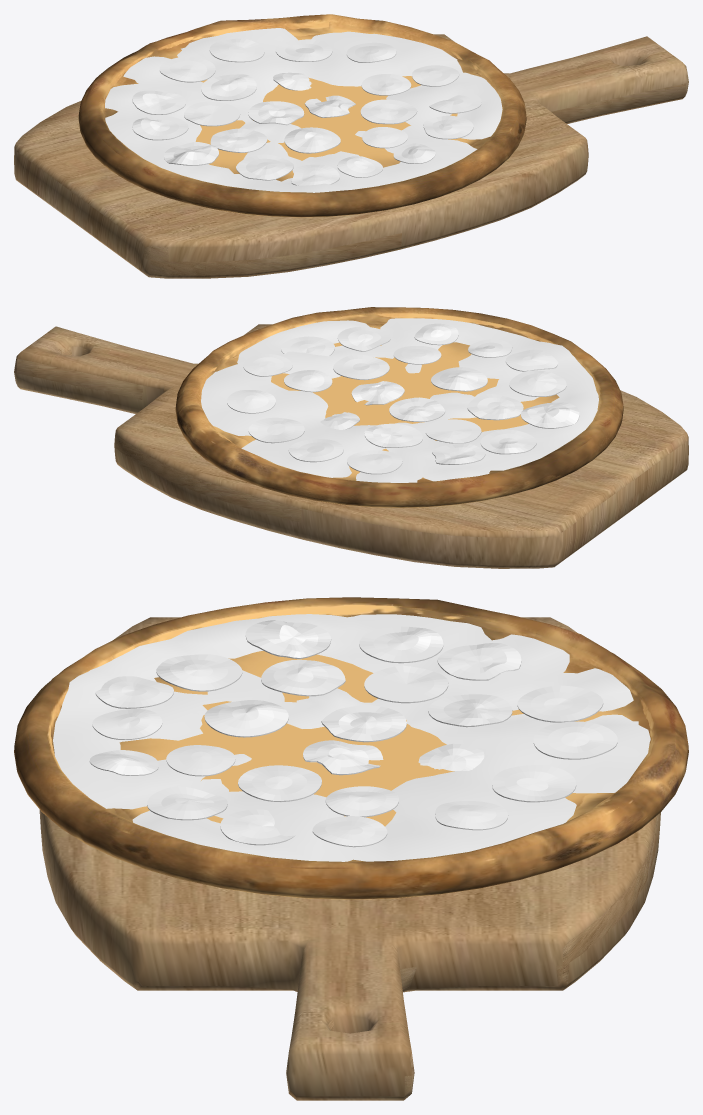
Rendered from asset.glb.
3 renders of one model, top to bottom at view 1: azimuth 30°, elevation 25°; view 2: azimuth 150°, elevation 25°; view 3: azimuth 270°, elevation 25°, orthographic. The views are drawn at different scales.
Parts seen in each view (by area): view 1: 3DGeom~7_Defintion.001, Pizza Dough.003, Pepperoni.003, Cheese.001; view 2: 3DGeom~7_Defintion.001, Pizza Dough.003, Pepperoni.003, Cheese.001; view 3: 3DGeom~7_Defintion.001, Pizza Dough.003, Cheese.001, Pepperoni.003.
Part boxes in pixels (x1,y1,x2,y2): 3DGeom~7_Defintion.001: (14,34,688,278); Pizza Dough.003: (78,14,526,217); Pepperoni.003: (132,38,481,185); Cheese.001: (105,28,502,192); 3DGeom~7_Defintion.001: (14,324,688,568); Pizza Dough.003: (175,307,623,507); Pepperoni.003: (227,323,579,474); Cheese.001: (201,318,598,482); 3DGeom~7_Defintion.001: (39,617,660,1100); Pizza Dough.003: (14,597,688,899); Cheese.001: (53,614,650,861); Pepperoni.003: (89,620,617,847).
Bounding box in the file's own units: 0.5805 × 0.0683 × 0.3809.
4 materials, 2 textured.
